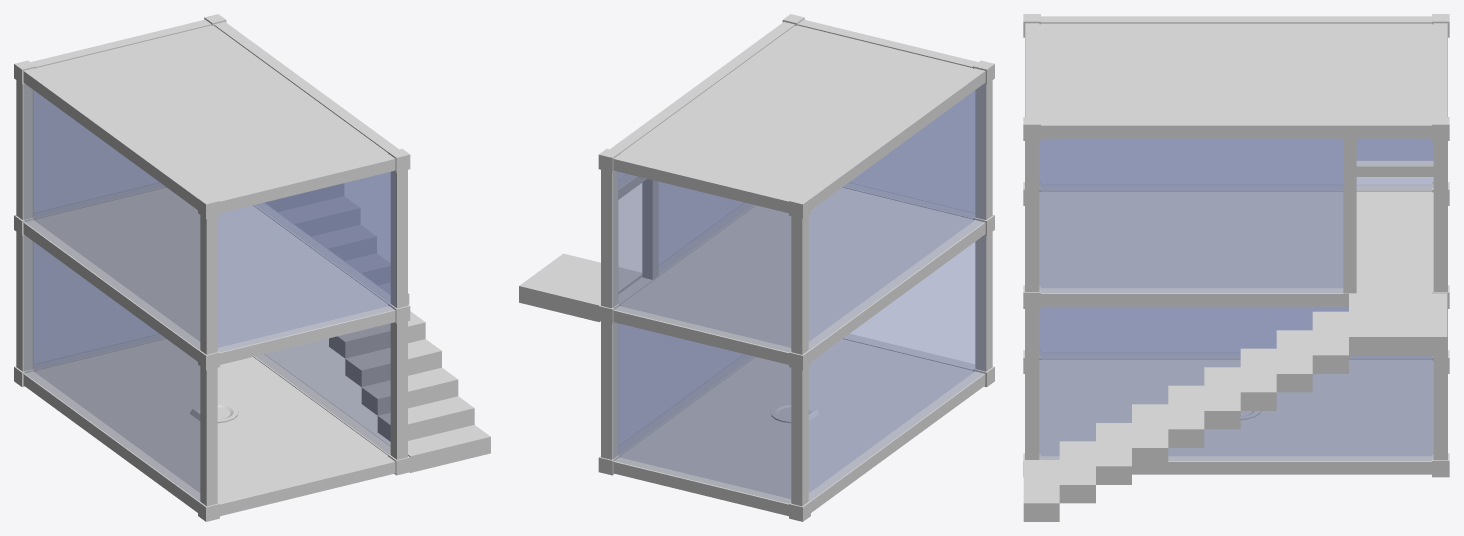
Rendered from House_Tsunami.fbx.
3 views of the same model, side by side, from view 1: azimuth 30°, elevation 25°; view 2: azimuth 150°, elevation 25°; view 3: azimuth 270°, elevation 25° (orthographic). The views are drawn at different scales.
Parts seen in each view (by area): view 1: House, House.001, Glass.001, Glass; view 2: House, House.001, Glass.001, Glass; view 3: House.001, House, Glass.001, Glass.
Part boxes in pixels (left/top/right/bottom): House: left=14, top=182, right=410, bottom=521; House.001: left=14, top=14, right=490, bottom=472; Glass.001: left=24, top=84, right=395, bottom=351; Glass: left=24, top=235, right=390, bottom=500; House: left=598, top=182, right=994, bottom=521; House.001: left=519, top=14, right=994, bottom=354; Glass.001: left=613, top=84, right=984, bottom=351; Glass: left=613, top=235, right=984, bottom=503; House.001: left=1023, top=14, right=1449, bottom=521; House: left=1023, top=182, right=1449, bottom=477; Glass.001: left=1039, top=138, right=1433, bottom=292; Glass: left=1039, top=306, right=1433, bottom=460.
Bounding box in the file's own units: 1430 × 1528 × 1670.
